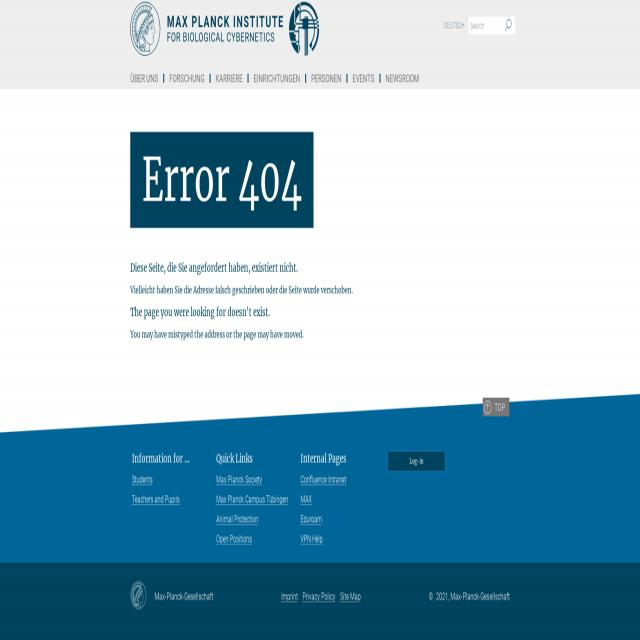button: (130, 2, 380, 56), (388, 452, 445, 471), (501, 17, 515, 34)
field: (468, 18, 500, 33)
